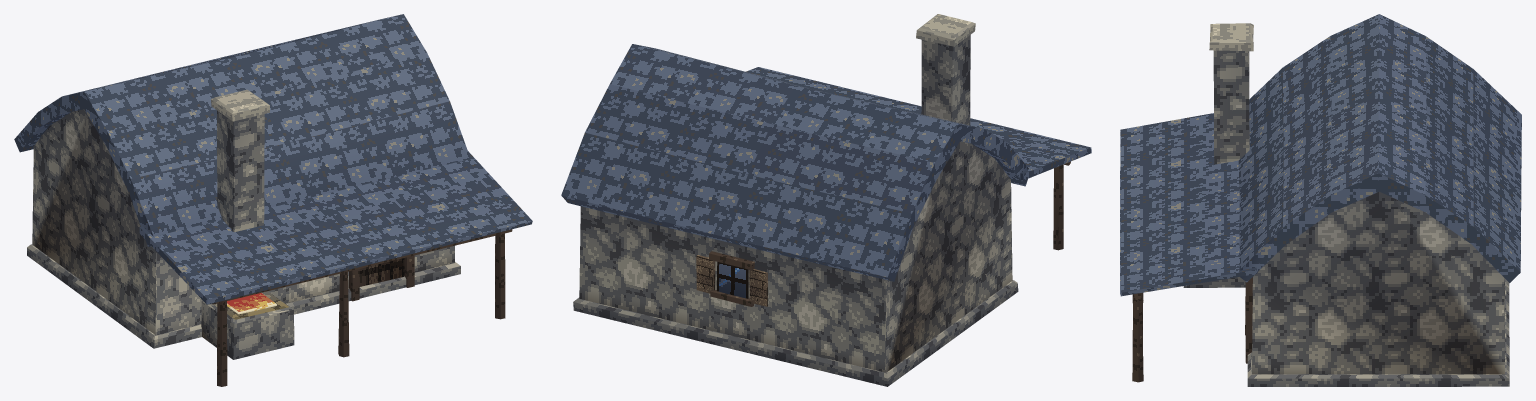
Rendered from vlg.smithy__thatch.glb.
3 views of the same model, side by side, from view 1: azimuth 30°, elevation 25°; view 2: azimuth 150°, elevation 25°; view 3: azimuth 270°, elevation 25° (orthographic). The views are drawn at different scales.
Visible parts, largest first — view 1: kit_roof, kit_walls, kit_stonework, kit_frame, kit_fittings; view 2: kit_roof, kit_walls, kit_stonework, kit_fittings, kit_frame; view 3: kit_roof, kit_walls, kit_stonework, kit_frame, kit_fittings.
Boxes of the visible parts, x1=… form: kit_roof: x1=14, y1=14, x2=532, y2=304; kit_walls: x1=32, y1=109, x2=454, y2=334; kit_stonework: x1=27, y1=89, x2=460, y2=359; kit_frame: x1=212, y1=229, x2=512, y2=386; kit_fittings: x1=227, y1=255, x2=414, y2=314; kit_roof: x1=561, y1=44, x2=1091, y2=281; kit_walls: x1=579, y1=141, x2=1012, y2=372; kit_stonework: x1=573, y1=14, x2=1018, y2=386; kit_fittings: x1=696, y1=251, x2=767, y2=306; kit_frame: x1=1053, y1=161, x2=1070, y2=250; kit_roof: x1=1120, y1=14, x2=1521, y2=296; kit_walls: x1=1252, y1=191, x2=1504, y2=374; kit_stonework: x1=1183, y1=23, x2=1509, y2=386; kit_frame: x1=1132, y1=292, x2=1143, y2=382; kit_fittings: x1=1245, y1=277, x2=1252, y2=363.
Bounding box in the file's own units: 7.63 × 5.27 × 7.94.
9 materials, 9 textured.
